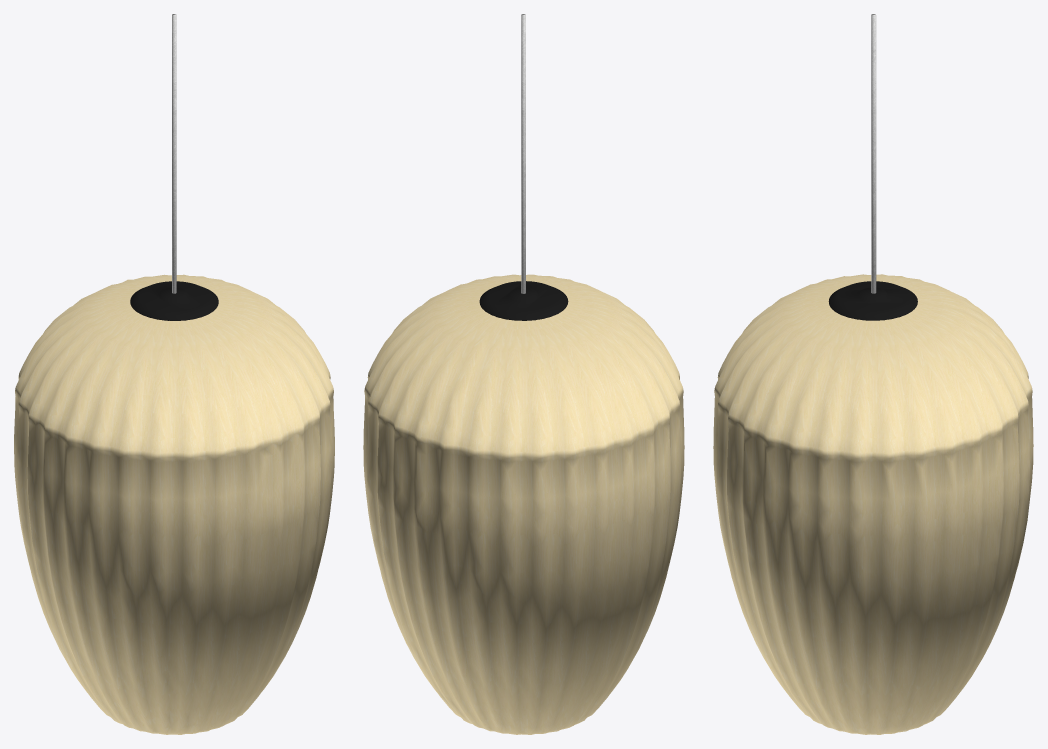
File: LAMPARAS.fbx
The picture shows the model from 3 angles, left to right: view 1: azimuth 30°, elevation 25°; view 2: azimuth 150°, elevation 25°; view 3: azimuth 270°, elevation 25°; orthographic projection.
Parts seen in each view (by area): view 1: collection_nelson_bubble_set_2_15, collection_nelson_bubble_set_2_16, collection_nelson_bubble_set_2_17; view 2: collection_nelson_bubble_set_2_15, collection_nelson_bubble_set_2_16, collection_nelson_bubble_set_2_17; view 3: collection_nelson_bubble_set_2_15, collection_nelson_bubble_set_2_16, collection_nelson_bubble_set_2_17.
Boxes of the visible parts, x1=… form: collection_nelson_bubble_set_2_15: x1=14, y1=274, x2=334, y2=734; collection_nelson_bubble_set_2_16: x1=130, y1=281, x2=218, y2=320; collection_nelson_bubble_set_2_17: x1=172, y1=14, x2=176, y2=293; collection_nelson_bubble_set_2_15: x1=363, y1=274, x2=684, y2=734; collection_nelson_bubble_set_2_16: x1=479, y1=281, x2=568, y2=320; collection_nelson_bubble_set_2_17: x1=521, y1=14, x2=525, y2=293; collection_nelson_bubble_set_2_15: x1=713, y1=274, x2=1033, y2=734; collection_nelson_bubble_set_2_16: x1=828, y1=281, x2=917, y2=320; collection_nelson_bubble_set_2_17: x1=871, y1=14, x2=876, y2=293.
Bounding box in the file's own units: 269 × 650 × 270.
